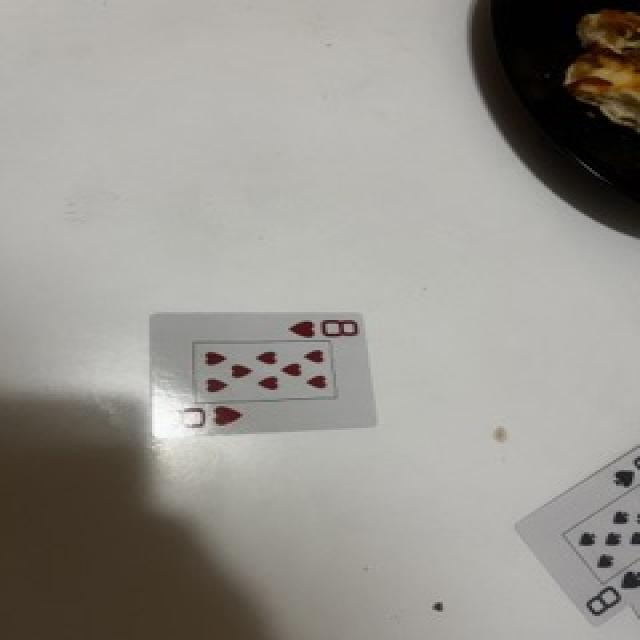8 of hearts: (150, 314, 375, 438)
8 of spades: (517, 449, 640, 624)
